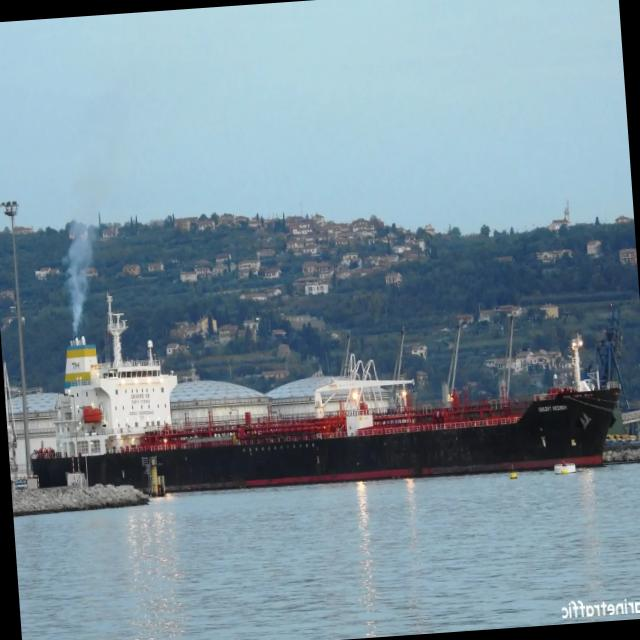Tanker: (31, 295, 621, 495)
